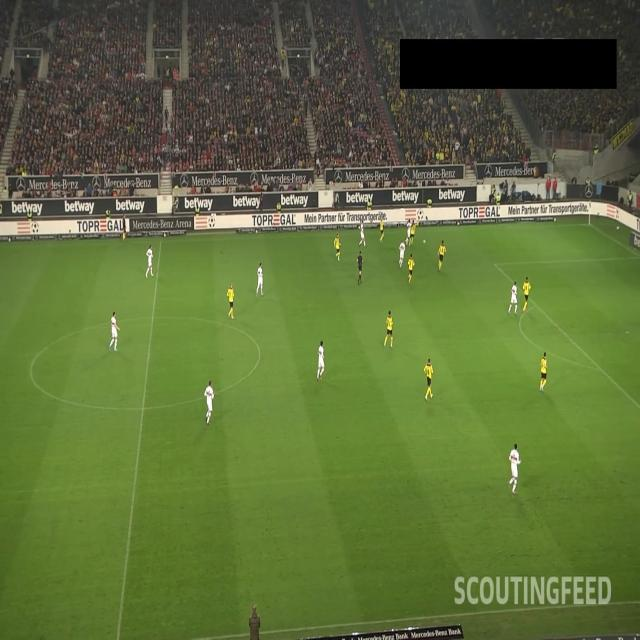ball: (423, 238, 426, 244)
